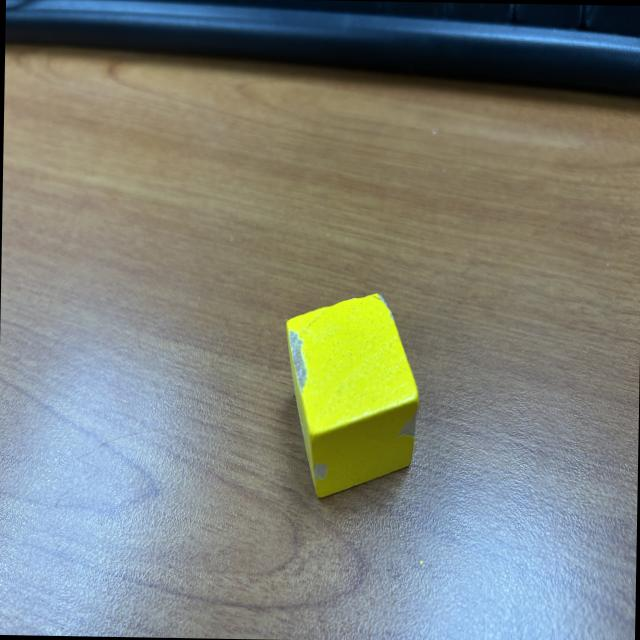broken: (281, 290, 422, 500)
